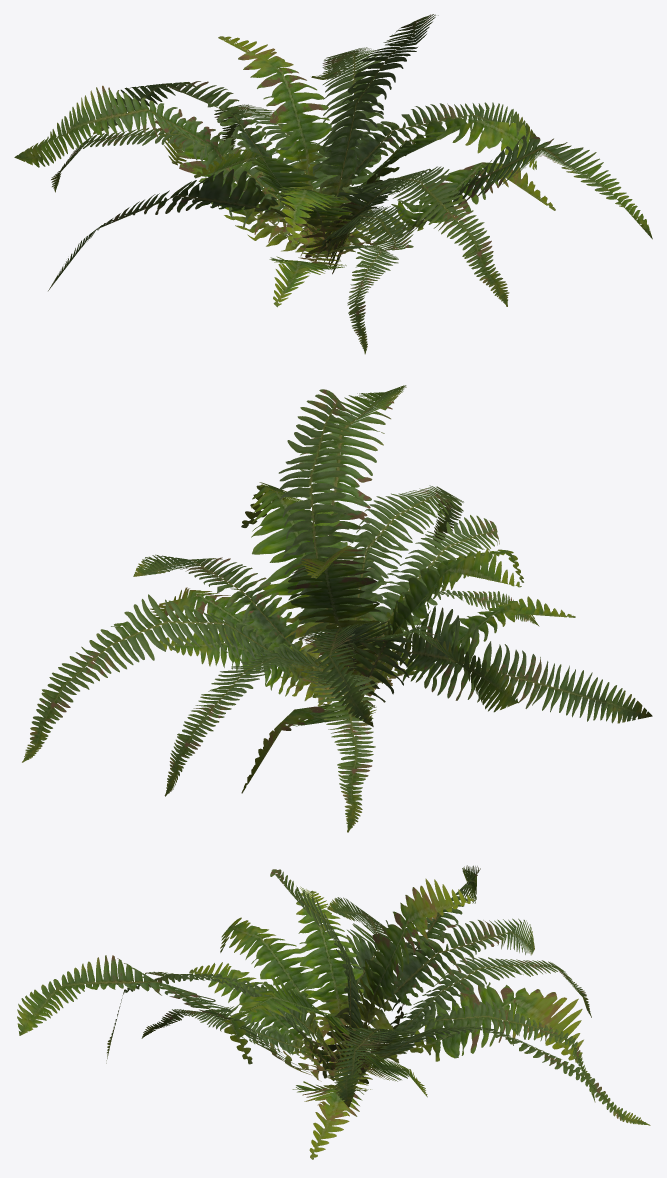
Rendered from Plant_F.glb.
3 renders of one model, top to bottom at view 1: azimuth 30°, elevation 25°; view 2: azimuth 150°, elevation 25°; view 3: azimuth 270°, elevation 25°, orthographic. The views are drawn at different scales.
Parts seen in each view (by area): view 1: Plant_F; view 2: Plant_F; view 3: Plant_F.
Part boxes in pixels (box(x1,y1,x2,y2)): Plant_F: box(14, 14, 652, 354); Plant_F: box(22, 385, 652, 832); Plant_F: box(17, 865, 650, 1159).
Size of the model in its own units: 0.6591 by 0.3384 by 0.7955.
Materials: 1 (1 with a texture image).
